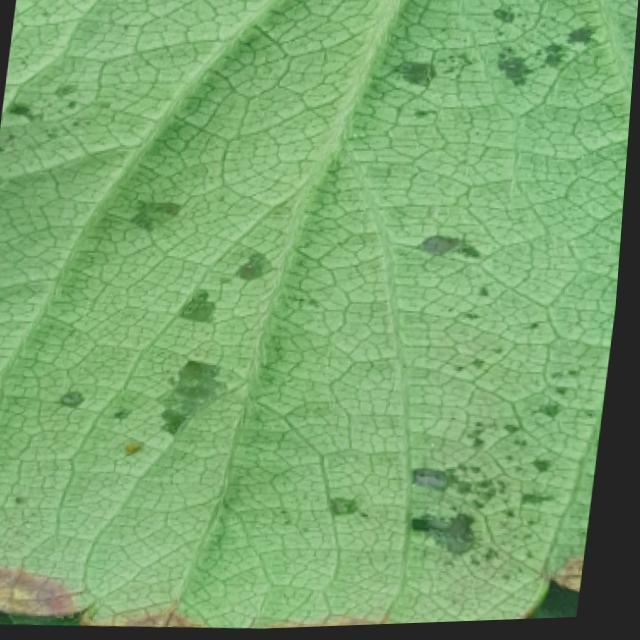Angular Leafspot: (0, 0, 639, 631)
